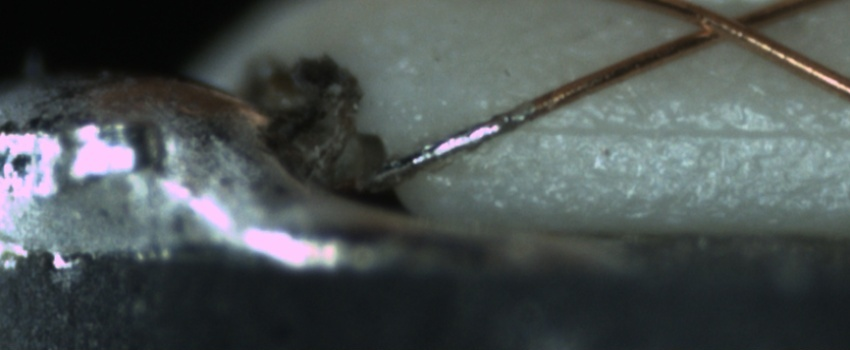CL: (673, 2, 782, 48)
DL: (504, 100, 850, 162)
TS: (343, 102, 535, 198)
